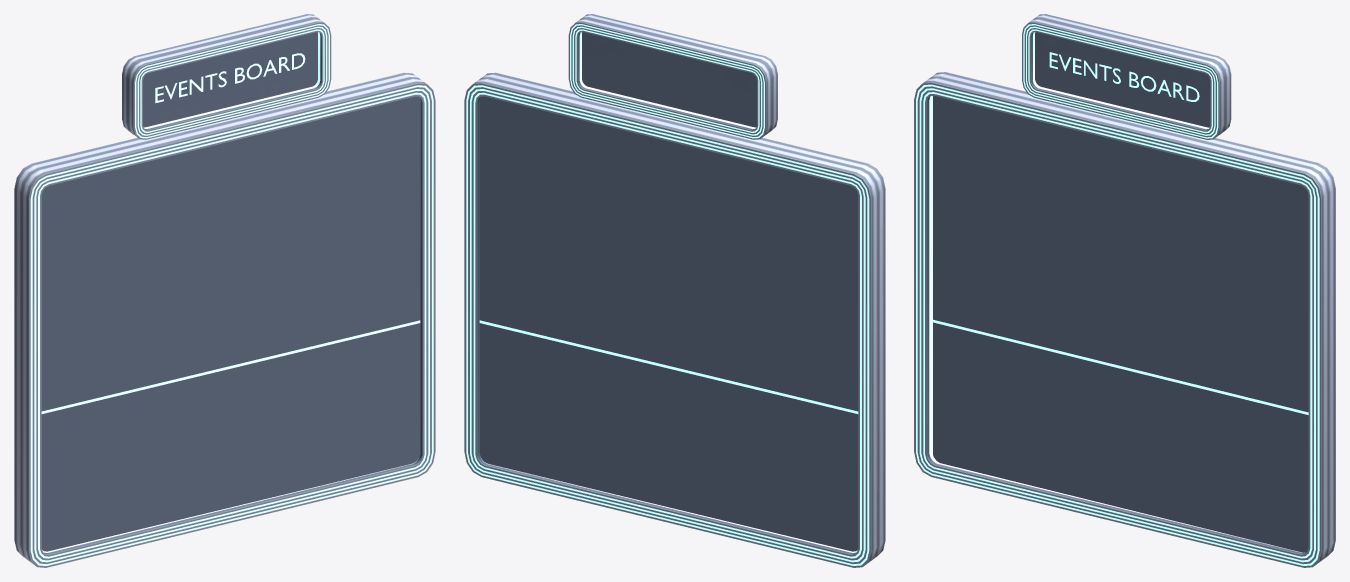
File: obj_events.gltf
3 views of the same model, side by side, from view 1: azimuth 30°, elevation 25°; view 2: azimuth 150°, elevation 25°; view 3: azimuth 330°, elevation 25° (orthographic).
Parts seen in each view (by area): view 1: obj_events; view 2: obj_events; view 3: obj_events.
Boxes of the visible parts, box(x1,y1,x2,y2) form: obj_events: box(14, 14, 435, 567); obj_events: box(464, 14, 885, 567); obj_events: box(914, 14, 1335, 567).
Size of what is drawn, in the model's own units: 3.04 by 3.41 by 0.1875.
Materials: 2 (1 with a texture image).
